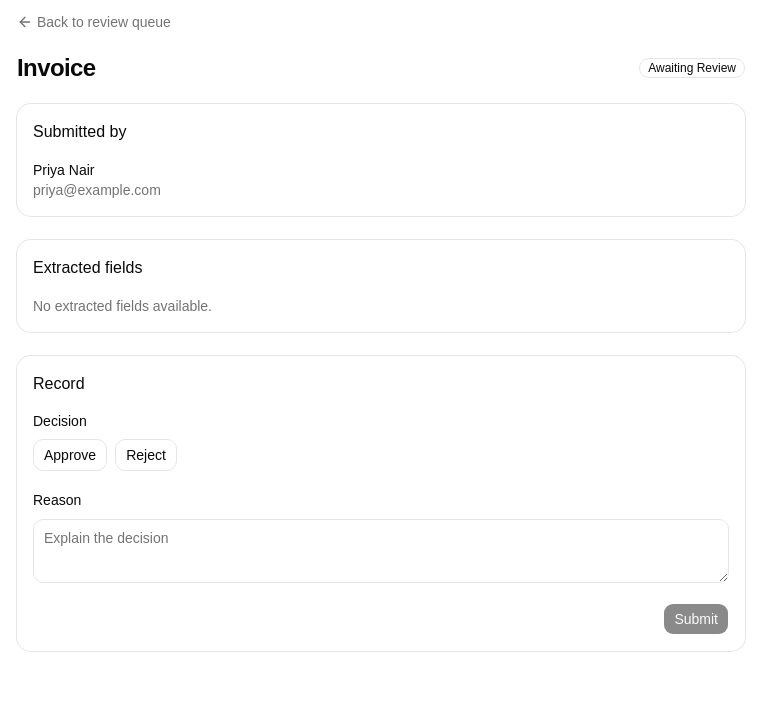
DecisionForm submission › should show the already-decided message when another reviewer wins the race
Step 1. Click the button "Approve" → (70, 455), box [33,439,107,471]
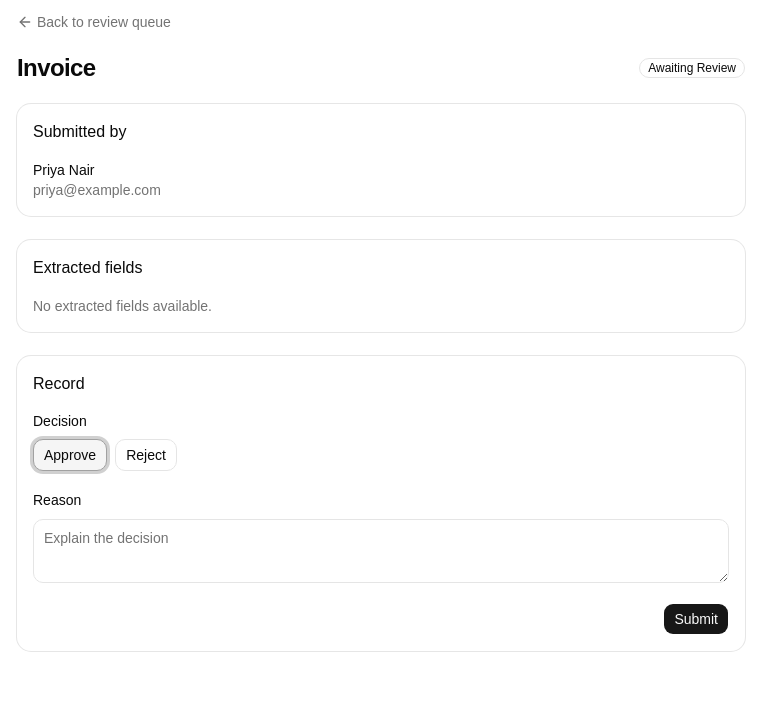
Step 2. Type "Looks fine" into the text box labelled "Reason" → (381, 550), box [33,518,729,582]
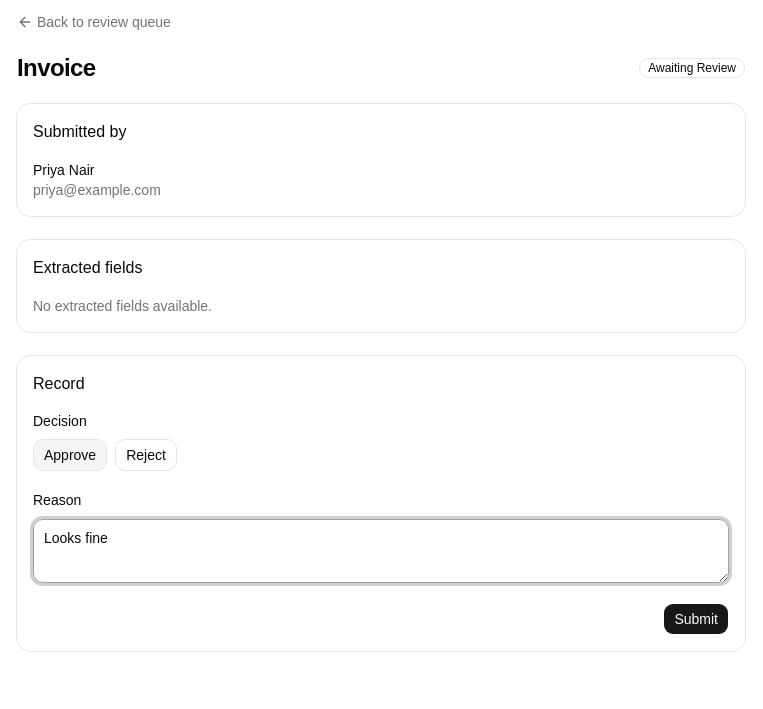
Step 3. Click the button "Submit" → (696, 618), box [663,602,729,634]
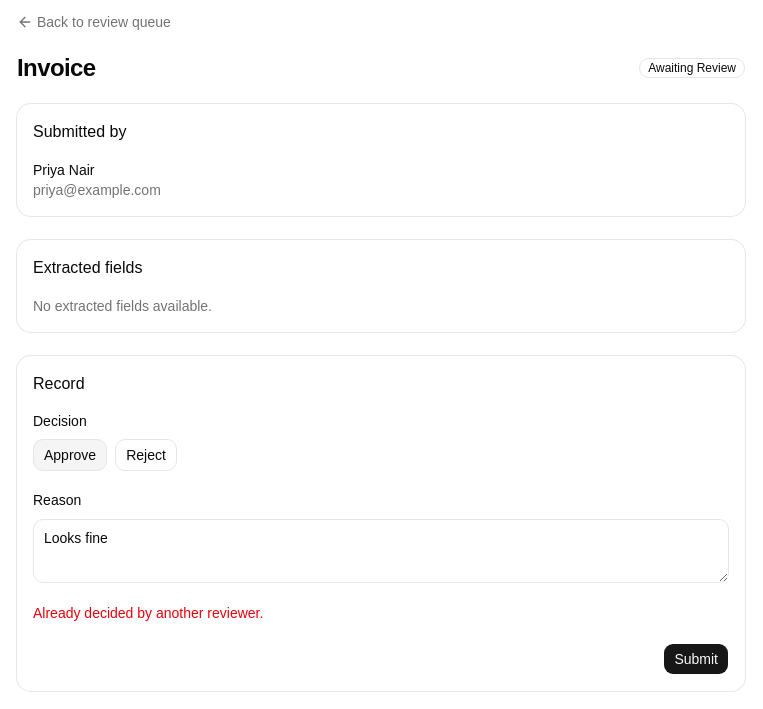
Now the message shows "Already decided by another reviewer", box [33,604,263,620]
